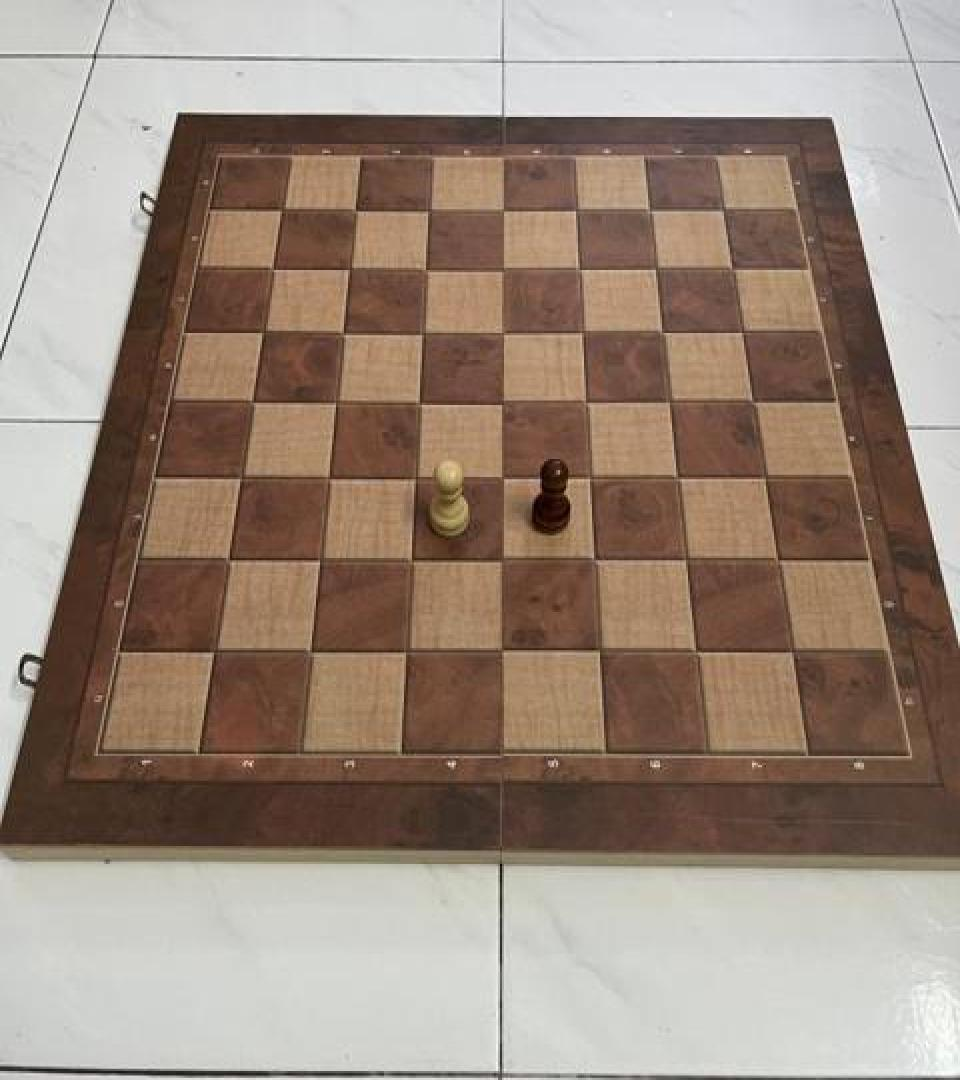xcorner: (707, 192, 741, 230), (633, 192, 667, 230), (559, 192, 593, 230), (485, 192, 519, 230), (412, 192, 446, 230), (338, 192, 372, 230), (265, 192, 299, 230), (716, 250, 750, 288), (639, 250, 673, 288), (562, 250, 596, 288), (485, 250, 519, 288), (409, 250, 443, 288), (332, 251, 366, 289), (256, 251, 290, 289), (725, 313, 759, 351), (645, 313, 679, 351), (565, 313, 599, 351), (485, 313, 519, 351), (405, 314, 439, 352), (326, 314, 360, 352), (246, 314, 280, 352), (736, 382, 770, 420), (652, 382, 686, 420), (568, 382, 602, 420), (485, 382, 519, 420), (402, 382, 436, 420), (318, 382, 352, 420), (235, 382, 269, 420), (747, 457, 781, 495), (660, 457, 694, 495), (572, 458, 606, 496), (485, 458, 519, 496), (398, 458, 432, 496), (310, 458, 344, 496), (223, 458, 257, 496), (760, 540, 794, 578), (668, 540, 702, 578), (576, 540, 610, 578), (485, 540, 519, 578), (393, 540, 427, 578), (302, 541, 336, 579), (210, 541, 244, 579), (774, 631, 808, 669), (677, 631, 711, 669), (581, 631, 615, 669), (484, 631, 518, 669), (388, 631, 422, 669), (292, 632, 326, 670), (196, 632, 230, 670)
